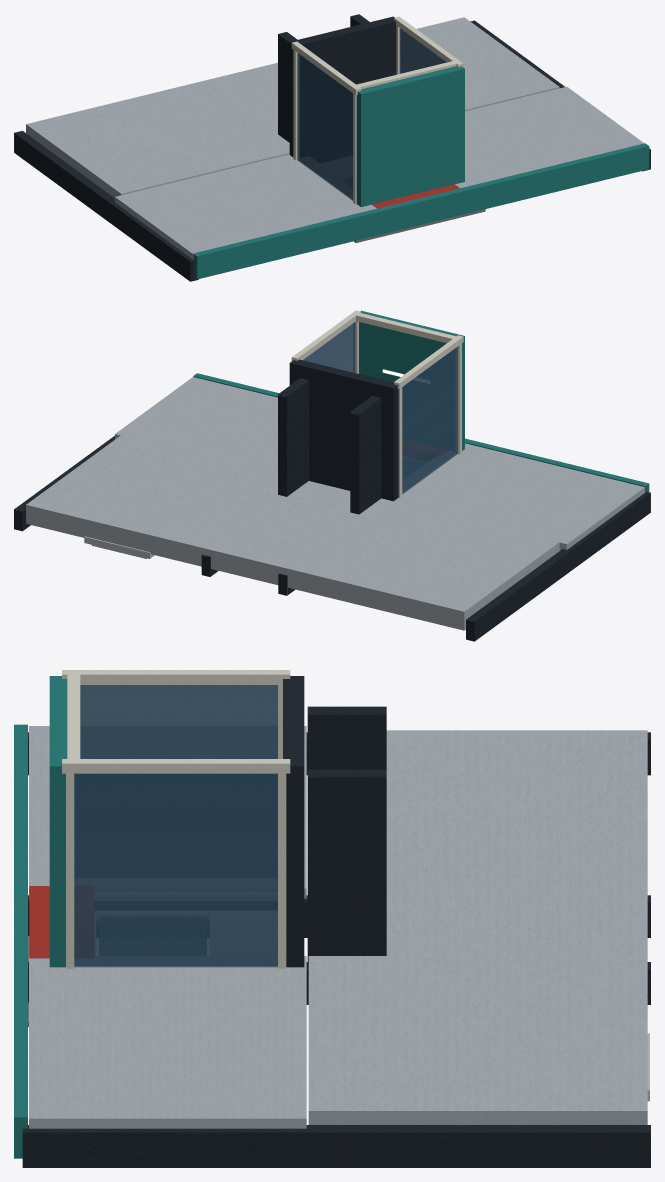
Rendered from MOD_03_JetBridgeAccess_10m.glb.
The picture shows the model from 3 angles, top to bottom: view 1: azimuth 30°, elevation 25°; view 2: azimuth 150°, elevation 25°; view 3: azimuth 270°, elevation 25°; orthographic projection. The views are drawn at different scales.
Parts seen in each view (by area): view 1: REN_Bridge_LowerFacade, REN_Bridge_UpperLeftCladding, REN_Bridge_ConnectorCeiling, REN_Bridge_RoofEdge, REN_Bridge_UpperRightCladding, REN_Bridge_ConnectorSideGlass, REN_Bridge_PortalColumns, REN_Bridge_ConnectorDeck, REN_Bridge_ConnectorEndStanchions, REN_Bridge_DeckBrackets, REN_Bridge_ConnectorMetalRails, REN_Bridge_ConnectorEndHeader (+2 smaller); view 2: REN_Bridge_LowerFacade, REN_Bridge_UpperLeftCladding, REN_Bridge_UpperRightCladding, REN_Bridge_ConnectorDeck, REN_Bridge_ConnectorSideGlass, REN_Bridge_DeckBrackets, REN_Bridge_PortalColumns, REN_Bridge_ConnectorCeiling, REN_Bridge_ConnectorEndStanchions, REN_Bridge_RoofEdge, REN_Bridge_ConnectorMetalRails, REN_Bridge_ConnectorEndHeader (+1 smaller); view 3: REN_Bridge_LowerFacade, REN_Bridge_ConnectorSideGlass, REN_Bridge_UpperRightCladding, REN_Bridge_PortalColumns, REN_Bridge_DeckBrackets, REN_Bridge_ConnectorEndStanchions, REN_Bridge_RoofEdge, REN_Bridge_ConnectorDeck, REN_Bridge_ConnectorCeiling, REN_Bridge_ConnectorMetalRails, REN_Bridge_UpperLeftCladding, REN_Bridge_HeaderAboveAccess (+1 smaller).
Part boxes in pixels (bbox=[...]): REN_Bridge_LowerFacade: bbox=[26, 17, 559, 197]; REN_Bridge_UpperLeftCladding: bbox=[115, 154, 376, 259]; REN_Bridge_ConnectorCeiling: bbox=[356, 66, 464, 206]; REN_Bridge_RoofEdge: bbox=[193, 143, 649, 279]; REN_Bridge_UpperRightCladding: bbox=[455, 86, 643, 188]; REN_Bridge_ConnectorSideGlass: bbox=[297, 28, 446, 200]; REN_Bridge_PortalColumns: bbox=[14, 20, 650, 281]; REN_Bridge_ConnectorDeck: bbox=[289, 16, 396, 156]; REN_Bridge_ConnectorEndStanchions: bbox=[291, 16, 463, 95]; REN_Bridge_DeckBrackets: bbox=[278, 14, 369, 142]; REN_Bridge_ConnectorMetalRails: bbox=[293, 25, 400, 204]; REN_Bridge_ConnectorEndHeader: bbox=[354, 60, 456, 89]; REN_Bridge_LowerFacade: bbox=[26, 435, 559, 630]; REN_Bridge_UpperLeftCladding: bbox=[382, 443, 644, 550]; REN_Bridge_UpperRightCladding: bbox=[115, 377, 277, 473]; REN_Bridge_ConnectorDeck: bbox=[289, 359, 398, 501]; REN_Bridge_ConnectorSideGlass: bbox=[303, 322, 457, 494]; REN_Bridge_DeckBrackets: bbox=[278, 378, 381, 514]; REN_Bridge_PortalColumns: bbox=[14, 436, 650, 641]; REN_Bridge_ConnectorCeiling: bbox=[359, 310, 464, 450]; REN_Bridge_ConnectorEndStanchions: bbox=[291, 310, 463, 388]; REN_Bridge_RoofEdge: bbox=[193, 373, 649, 492]; REN_Bridge_ConnectorMetalRails: bbox=[354, 321, 461, 497]; REN_Bridge_ConnectorEndHeader: bbox=[355, 312, 457, 343]; REN_Bridge_LowerFacade: bbox=[308, 730, 647, 1124]; REN_Bridge_ConnectorSideGlass: bbox=[74, 685, 277, 967]; REN_Bridge_UpperRightCladding: bbox=[29, 956, 306, 1128]; REN_Bridge_PortalColumns: bbox=[22, 732, 650, 1167]; REN_Bridge_DeckBrackets: bbox=[307, 706, 386, 967]; REN_Bridge_ConnectorEndStanchions: bbox=[62, 670, 290, 773]; REN_Bridge_RoofEdge: bbox=[14, 724, 27, 1158]; REN_Bridge_ConnectorDeck: bbox=[283, 676, 304, 967]; REN_Bridge_ConnectorCeiling: bbox=[49, 676, 67, 967]; REN_Bridge_ConnectorMetalRails: bbox=[66, 685, 286, 968]; REN_Bridge_UpperLeftCladding: bbox=[29, 726, 306, 898]; REN_Bridge_HeaderAboveAccess: bbox=[29, 886, 49, 958].
Bounding box in the file's own units: 10.19 × 3.08 × 6.86.
Materials: 4 (3 with a texture image).
